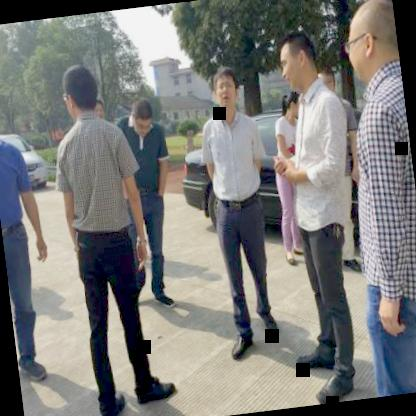head: (337, 0, 401, 87), (274, 27, 324, 95), (58, 60, 103, 124), (208, 61, 243, 119), (126, 92, 158, 134), (315, 60, 339, 107), (282, 86, 306, 126), (0, 87, 5, 144)
